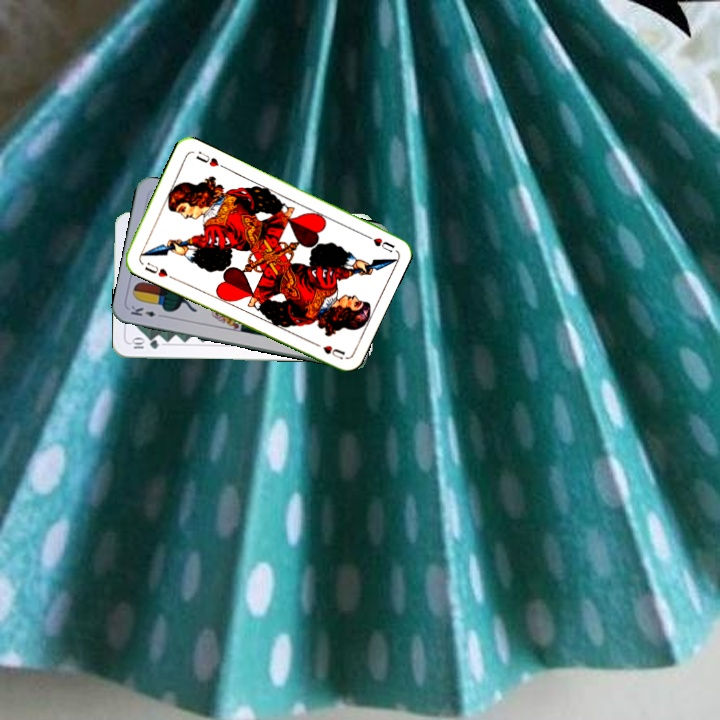EK: (126, 302, 167, 320)
G10: (127, 336, 161, 351)
HU: (359, 230, 397, 255), (140, 258, 170, 280)
